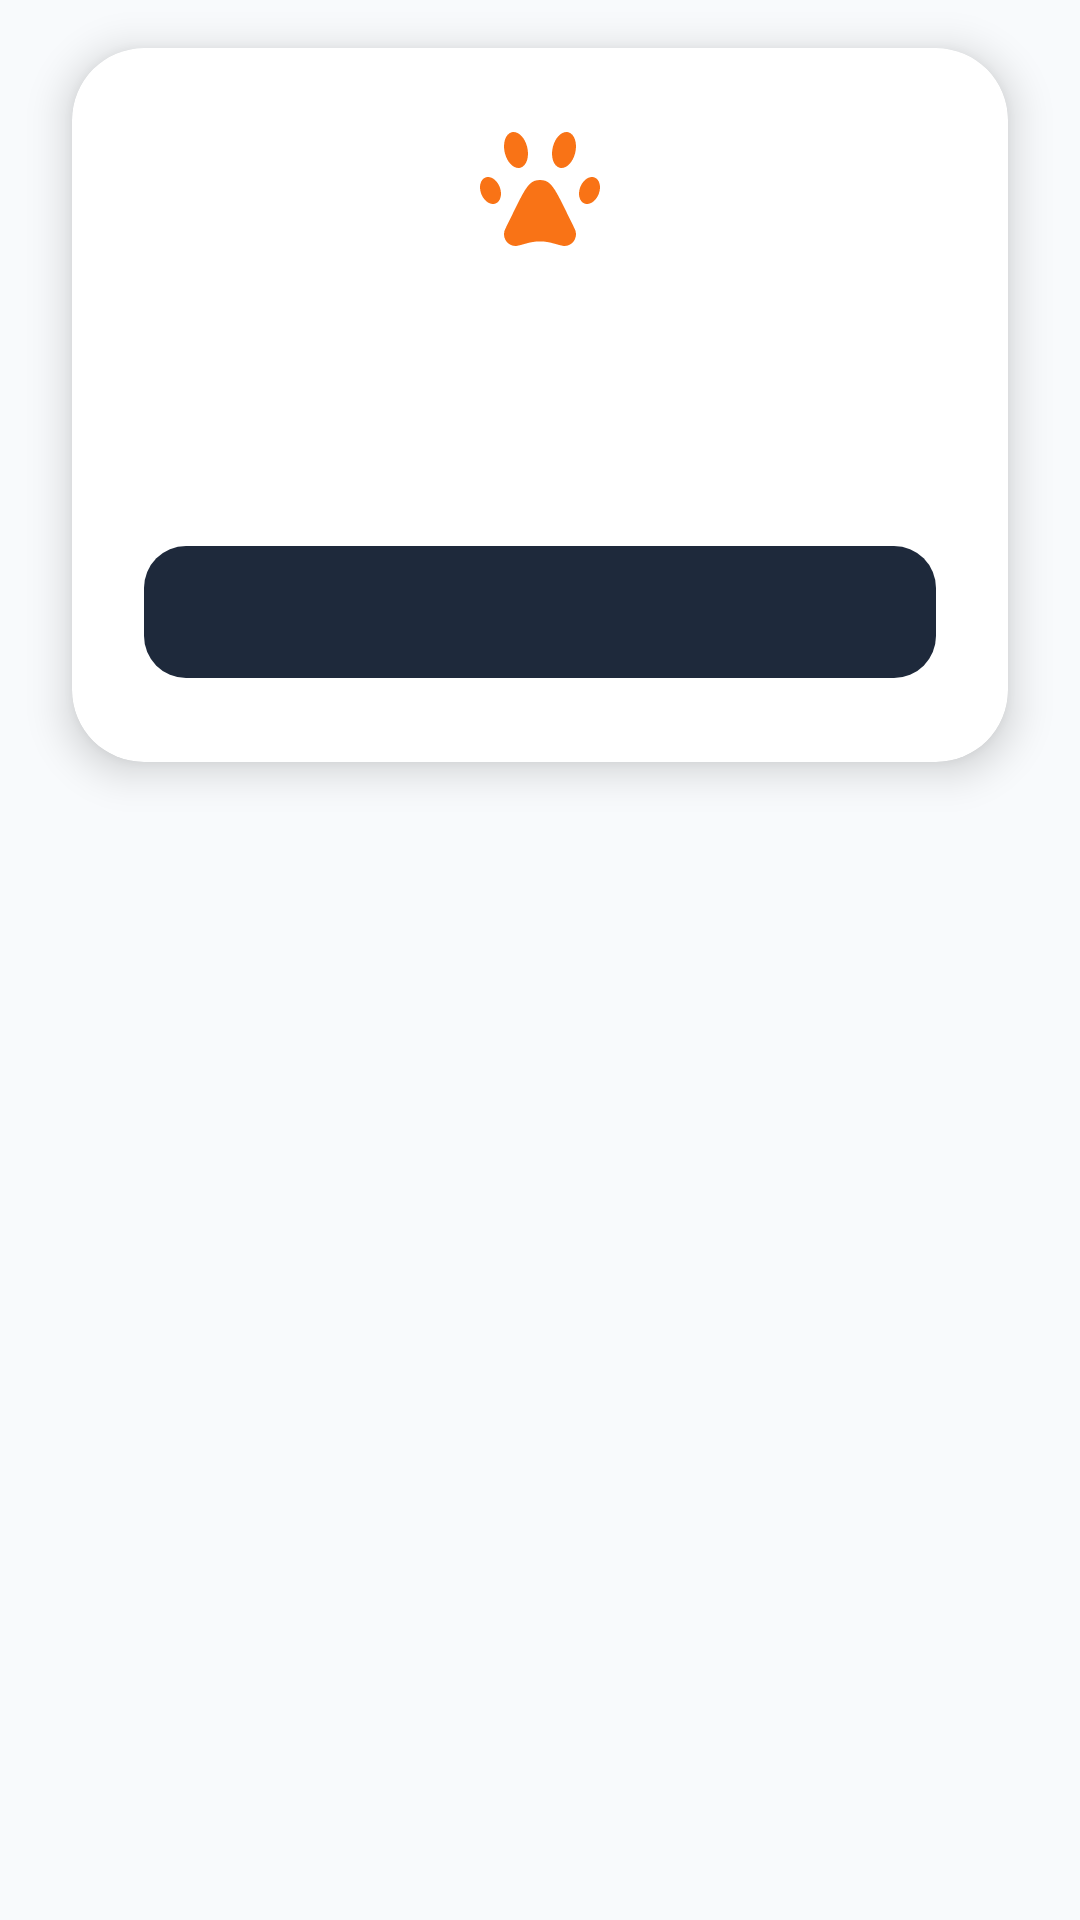

Named icons in this screenshot (1080px x 1920px) and their centers, (x,y):
patidolu: (540,189)
